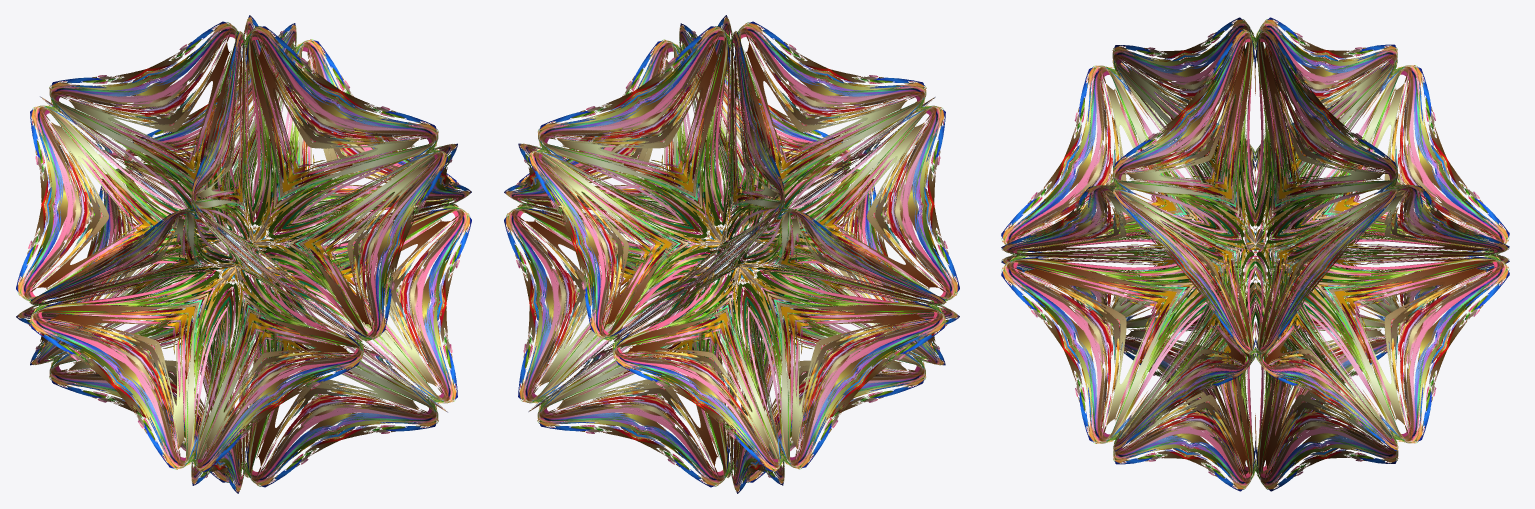
The model's file is Mobius48b_9.obj.
3 renders of one model, left to right at view 1: azimuth 30°, elevation 25°; view 2: azimuth 150°, elevation 25°; view 3: azimuth 270°, elevation 25°, orthographic.
Size of the model in its own units: 2.16 by 2.16 by 2.16.
1 material, 1 textured.
